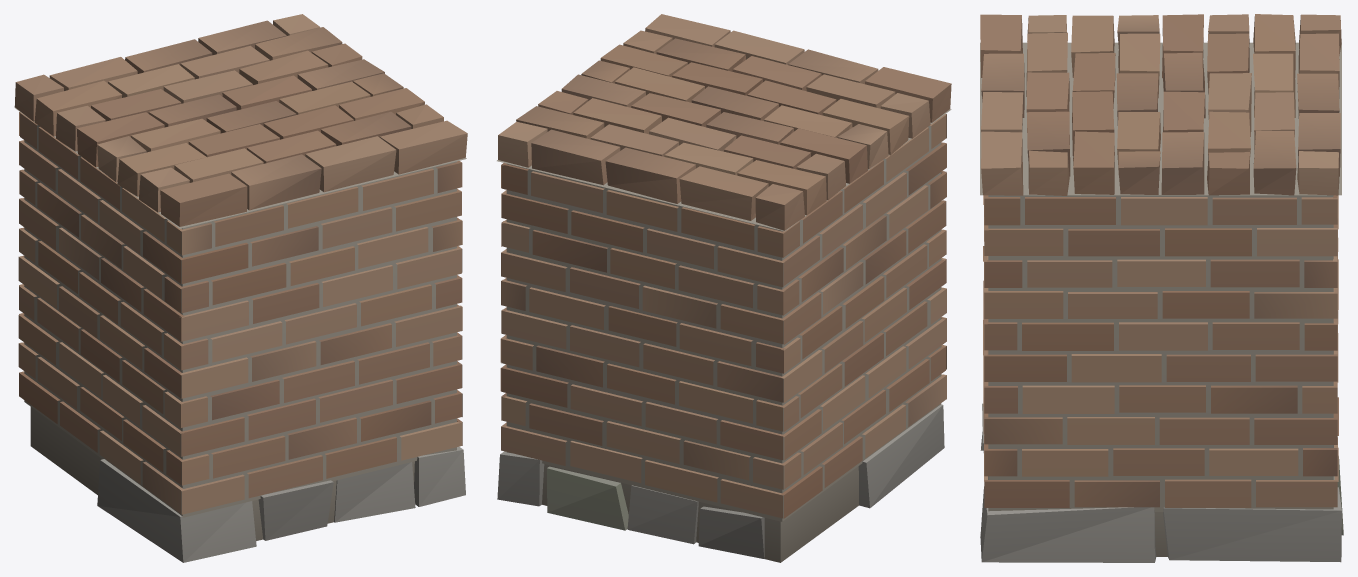
Rendered from brick_wall_a.glb.
The picture shows the model from 3 angles, left to right: view 1: azimuth 30°, elevation 25°; view 2: azimuth 150°, elevation 25°; view 3: azimuth 270°, elevation 25°; orthographic projection. The views are drawn at different scales.
Visible parts, largest first — view 1: brick_wall_a; view 2: brick_wall_a; view 3: brick_wall_a.
Boxes of the visible parts, bbox=[...] form: brick_wall_a: bbox=[14, 14, 467, 562]; brick_wall_a: bbox=[497, 14, 951, 562]; brick_wall_a: bbox=[980, 14, 1343, 562].
Bounding box in the file's own units: 0.9781 × 1.17 × 0.9753.
